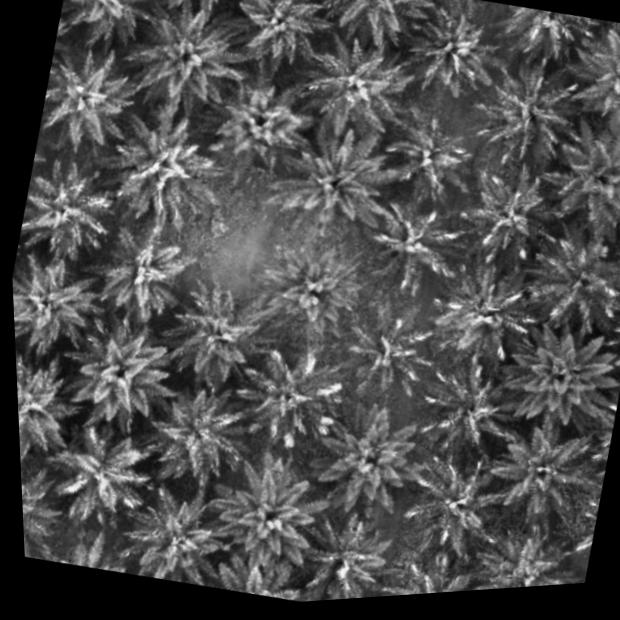oilpalm: (468, 396, 612, 535), (202, 445, 337, 580), (489, 308, 620, 445), (148, 268, 282, 401), (111, 466, 238, 594), (419, 244, 544, 374), (43, 404, 163, 534), (509, 213, 620, 352), (273, 126, 402, 244), (124, 0, 251, 119), (445, 145, 568, 266), (404, 345, 530, 462), (307, 393, 431, 511), (330, 291, 442, 421), (394, 440, 515, 558), (251, 229, 374, 345), (231, 330, 351, 448), (369, 95, 484, 218), (356, 178, 466, 305), (106, 106, 220, 227), (66, 310, 181, 427), (142, 371, 260, 485), (34, 36, 147, 154), (85, 212, 198, 326), (302, 33, 419, 140), (207, 68, 315, 182), (537, 109, 620, 251), (14, 152, 118, 265), (287, 498, 399, 602), (11, 245, 107, 358), (403, 0, 508, 100), (468, 53, 574, 150), (15, 335, 92, 468), (461, 512, 583, 591), (217, 0, 339, 74), (560, 20, 620, 129), (20, 446, 72, 562), (55, 0, 164, 50), (383, 547, 490, 596)
